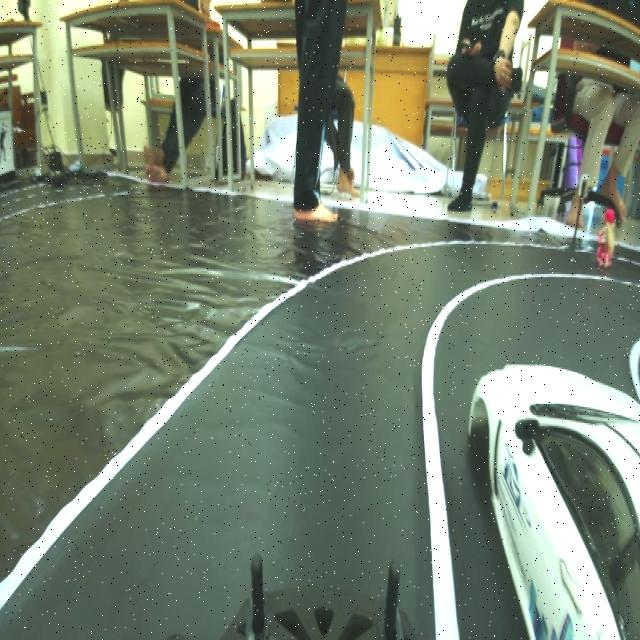car: (467, 310, 640, 639)
